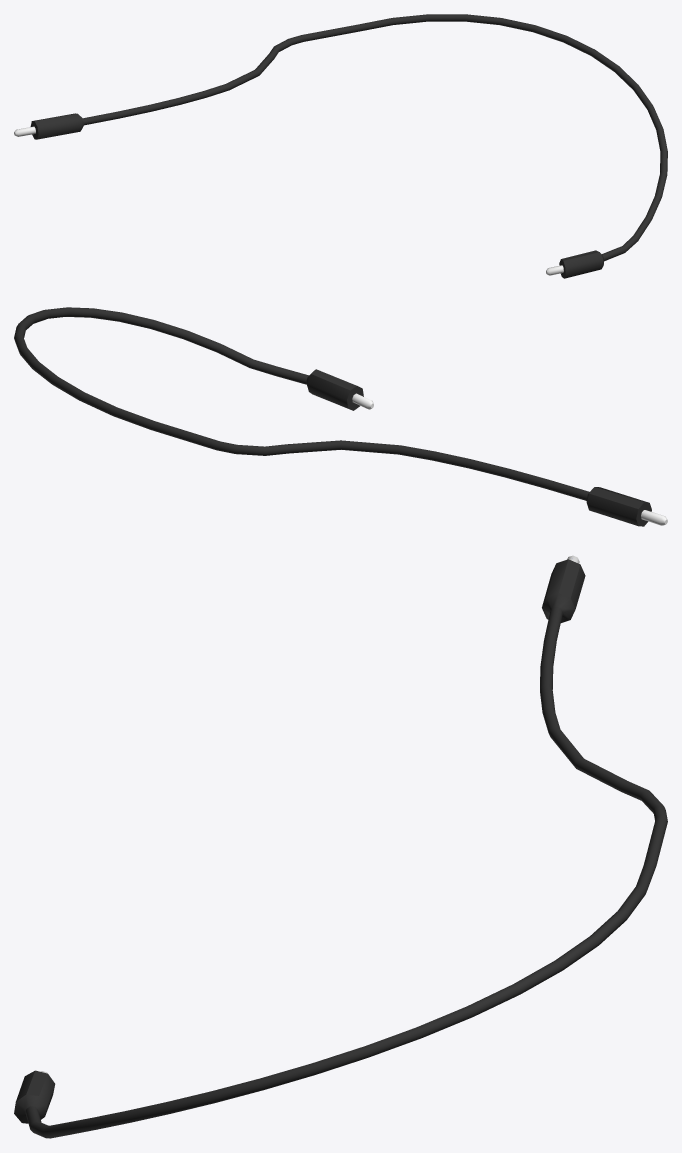
File: ElectroWires06_2.FBX
3 renders of one model, top to bottom at view 1: azimuth 30°, elevation 25°; view 2: azimuth 150°, elevation 25°; view 3: azimuth 270°, elevation 25°, orthographic. The views are drawn at different scales.
Visible parts, largest first — view 1: Object001; view 2: Object001; view 3: Object001.
Boxes of the visible parts, x1,y1,x2,y2 form: Object001: (14,14,667,278); Object001: (14,307,667,526); Object001: (14,555,667,1138).
Size of the model in its own units: 87.14 by 20.38 by 52.53.
